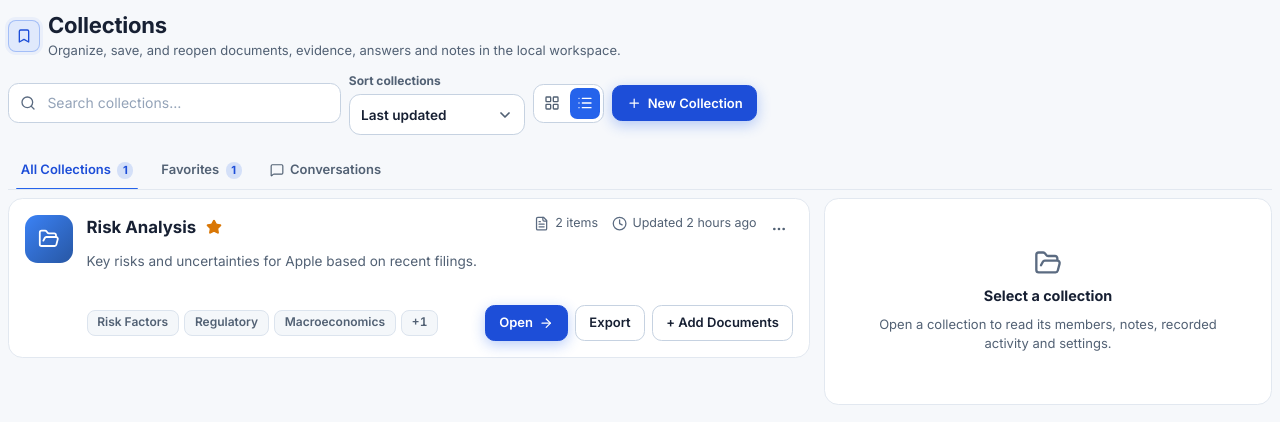
Scenario: CollectionsWorkspace › a stale list response cannot replace a newer search's results
Check: the heading "Risk Analysis" is shown, box [87, 215, 226, 240]
Type "slow" into the search field labelled "Search collections" at (174, 103), box [8, 83, 341, 123]
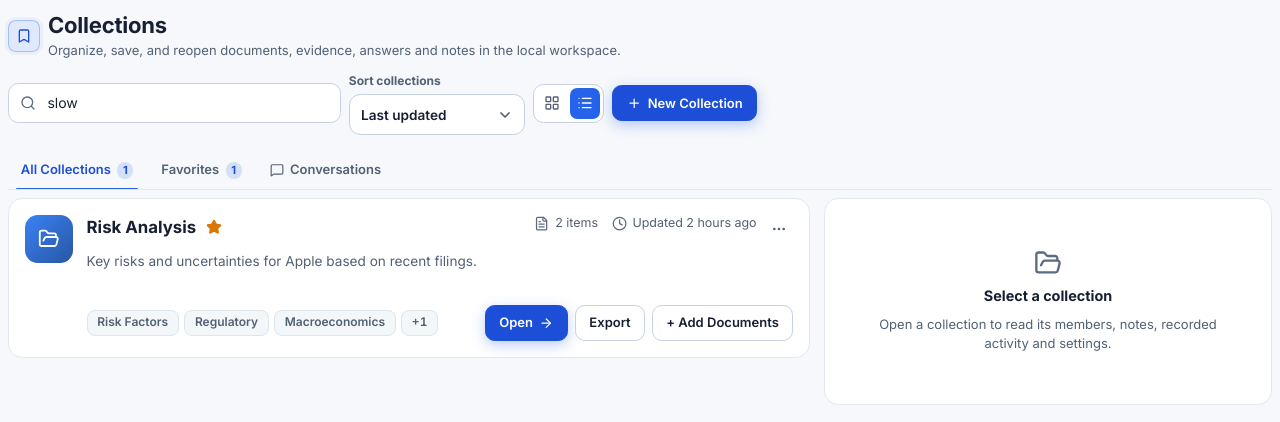
Replace the text in the search field named "Search collections" with "fast" at (174, 103), box [8, 83, 341, 123]
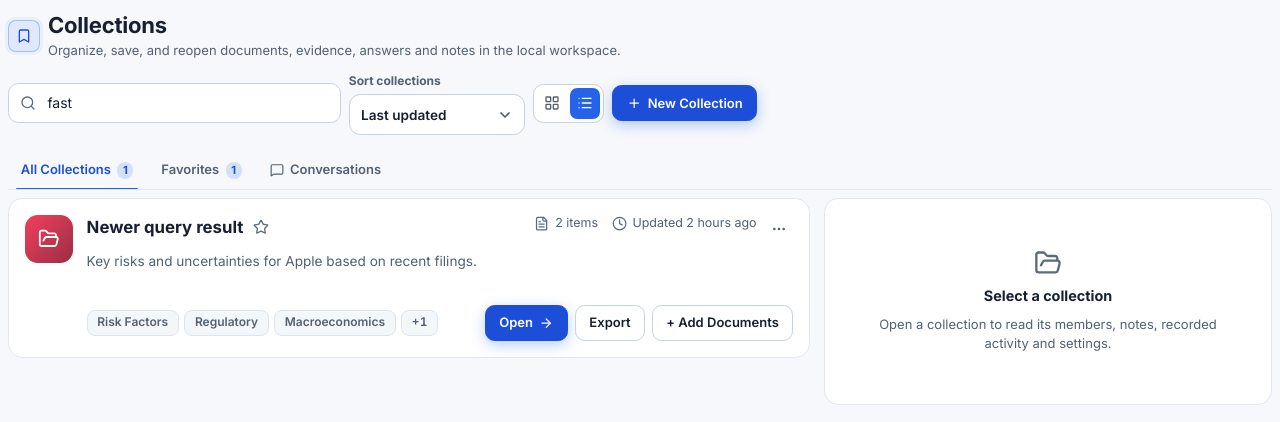
Check: the heading "Newer query result" is shown, box [87, 215, 273, 240]
